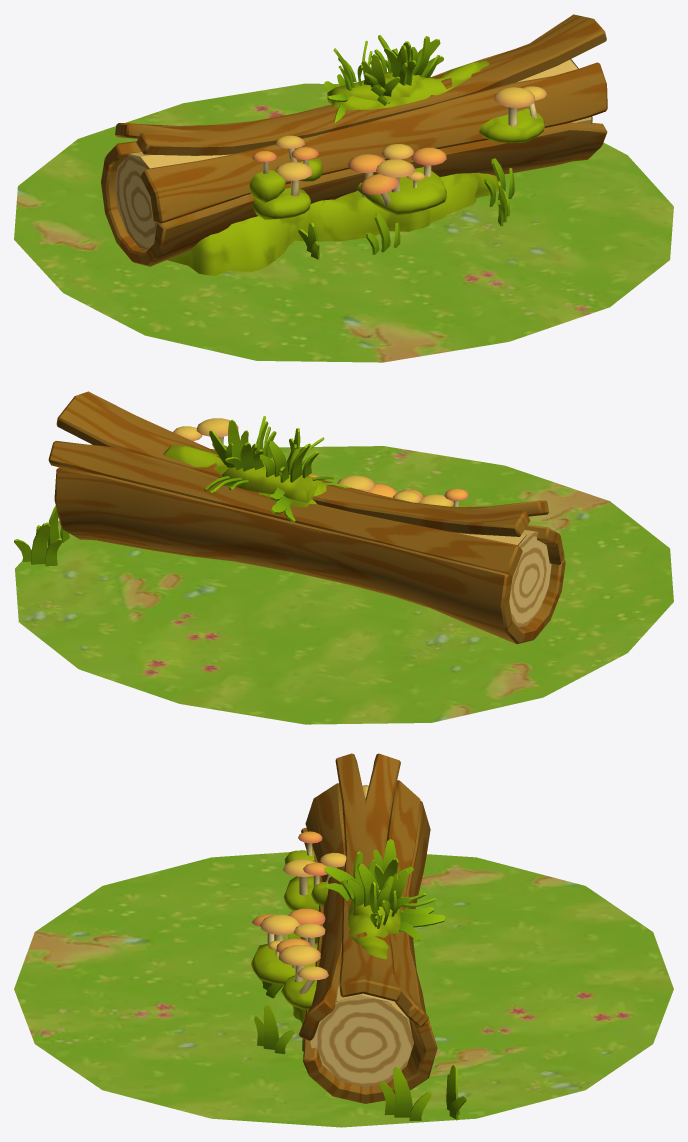
Rendered from wood-log-obtacle.glb.
3 renders of one model, top to bottom at view 1: azimuth 30°, elevation 25°; view 2: azimuth 150°, elevation 25°; view 3: azimuth 270°, elevation 25°, orthographic.
Visible parts, largest first — view 1: _gltfNode_0, _gltfNode_2, _gltfNode_19, _gltfNode_17, _gltfNode_69, _gltfNode_28, _gltfNode_9, _gltfNode_88, _gltfNode_5, _gltfNode_38, _gltfNode_40, _gltfNode_82 (+5 smaller); view 2: _gltfNode_0, _gltfNode_2, _gltfNode_17, _gltfNode_69, _gltfNode_19, _gltfNode_13, _gltfNode_84, _gltfNode_80, _gltfNode_72, _gltfNode_28; view 3: _gltfNode_0, _gltfNode_2, _gltfNode_15, _gltfNode_19, _gltfNode_11, _gltfNode_3, _gltfNode_70, _gltfNode_82, _gltfNode_28, _gltfNode_13, _gltfNode_40, _gltfNode_69.
Boxes of the visible parts, x1,y1,x2,y2 form: _gltfNode_0: (14, 83, 673, 362); _gltfNode_2: (101, 14, 607, 266); _gltfNode_19: (167, 61, 544, 275); _gltfNode_17: (114, 152, 251, 249); _gltfNode_69: (327, 72, 423, 104); _gltfNode_28: (494, 87, 534, 107); _gltfNode_9: (366, 213, 400, 254); _gltfNode_88: (361, 54, 400, 96); _gltfNode_5: (484, 158, 514, 206); _gltfNode_38: (360, 174, 398, 194); _gltfNode_40: (376, 159, 415, 177); _gltfNode_82: (384, 41, 416, 85); _gltfNode_0: (15, 446, 673, 724); _gltfNode_2: (48, 391, 565, 644); _gltfNode_17: (460, 530, 551, 627); _gltfNode_69: (222, 459, 317, 503); _gltfNode_19: (163, 445, 471, 507); _gltfNode_13: (14, 522, 62, 566); _gltfNode_84: (259, 441, 299, 477); _gltfNode_80: (279, 444, 318, 482); _gltfNode_72: (225, 442, 264, 471); _gltfNode_28: (196, 418, 238, 436); _gltfNode_0: (14, 852, 673, 1127); _gltfNode_2: (298, 753, 437, 1103); _gltfNode_15: (310, 984, 413, 1087); _gltfNode_19: (251, 850, 388, 1023); _gltfNode_11: (380, 1067, 431, 1120); _gltfNode_3: (254, 1004, 294, 1053); _gltfNode_70: (398, 907, 445, 940); _gltfNode_82: (347, 864, 393, 906); _gltfNode_28: (279, 945, 320, 965); _gltfNode_13: (446, 1064, 466, 1120); _gltfNode_40: (260, 914, 299, 935); _gltfNode_69: (353, 886, 400, 934).
Bounding box in the file's own units: 365 × 115 × 365.
48 materials, 48 textured.
